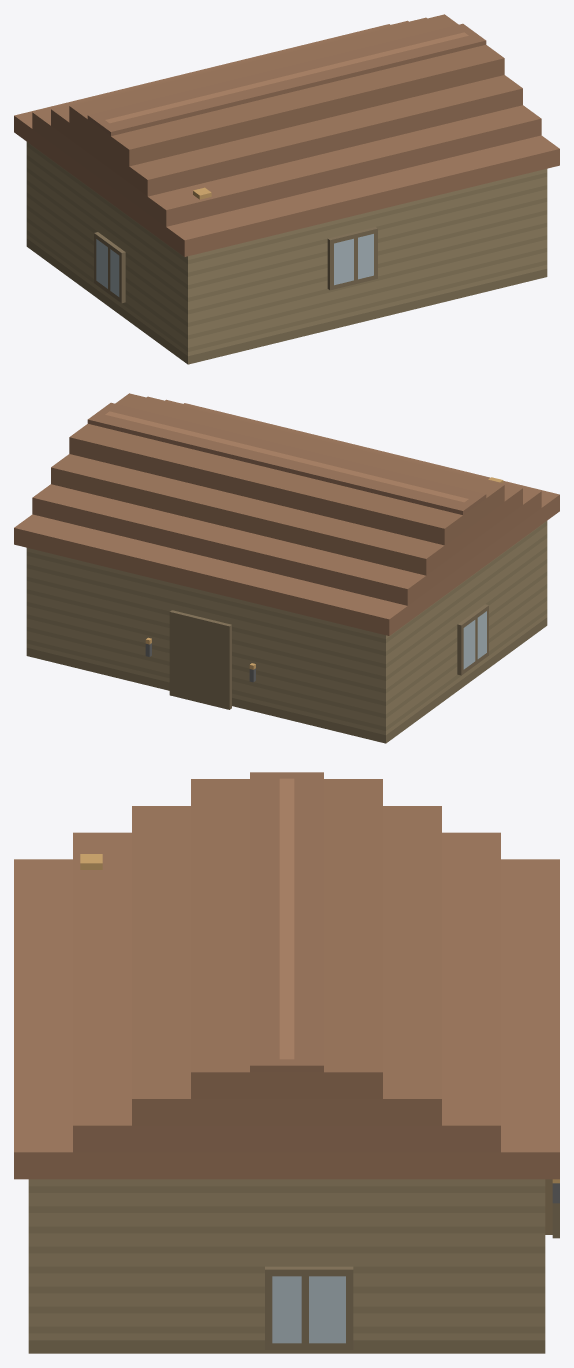
File: destileria_02.glb
3 renders of one model, top to bottom at view 1: azimuth 30°, elevation 25°; view 2: azimuth 150°, elevation 25°; view 3: azimuth 270°, elevation 25°, orthographic. The views are drawn at different scales.
Visible parts, largest first — view 1: destileria_02; view 2: destileria_02; view 3: destileria_02.
Part boxes in pixels (x1,y1,x2,y2): destileria_02: (14, 14, 559, 364); destileria_02: (14, 393, 559, 743); destileria_02: (14, 772, 559, 1353).
Size of the model in its own units: 9.4 by 4.4 by 7.4.
